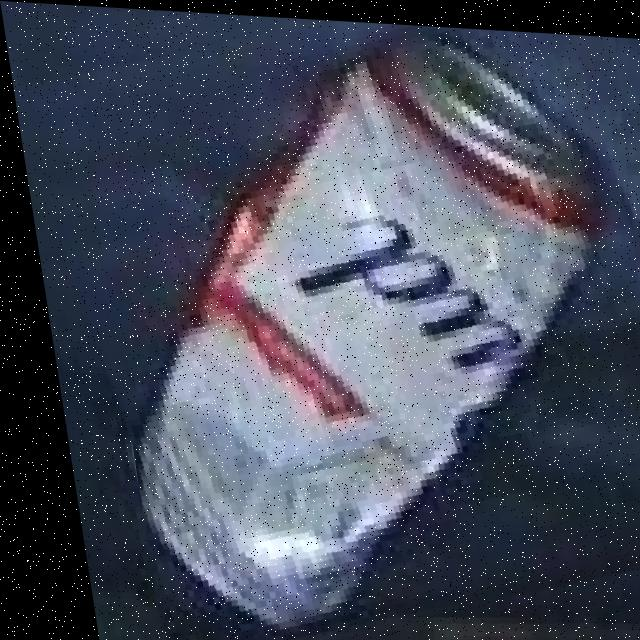can: (109, 16, 633, 640)
